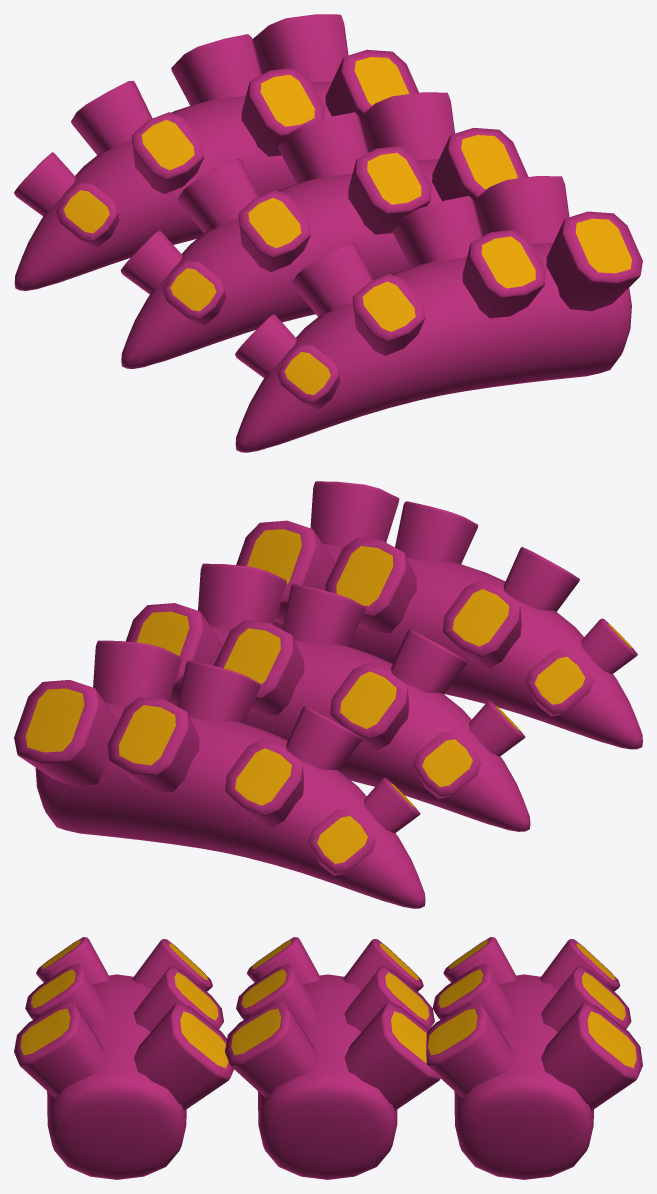
Rendered from FoodIngredient_Tentacle.glb.
The picture shows the model from 3 angles, top to bottom: view 1: azimuth 30°, elevation 25°; view 2: azimuth 150°, elevation 25°; view 3: azimuth 270°, elevation 25°; orthographic projection. The views are drawn at different scales.
Parts seen in each view (by area): view 1: FoodIngredient_Tentacle.002, FoodIngredient_Tentacle, FoodIngredient_Tentacle.001; view 2: FoodIngredient_Tentacle.001, FoodIngredient_Tentacle.002, FoodIngredient_Tentacle; view 3: FoodIngredient_Tentacle.001, FoodIngredient_Tentacle.002, FoodIngredient_Tentacle.
Part boxes in pixels (bbox=[...]): FoodIngredient_Tentacle.002: bbox=[235, 176, 642, 452]; FoodIngredient_Tentacle: bbox=[120, 92, 528, 368]; FoodIngredient_Tentacle.001: bbox=[14, 14, 418, 290]; FoodIngredient_Tentacle.001: bbox=[14, 640, 425, 908]; FoodIngredient_Tentacle.002: bbox=[236, 481, 642, 749]; FoodIngredient_Tentacle: bbox=[125, 563, 530, 831]; FoodIngredient_Tentacle.001: bbox=[426, 937, 642, 1179]; FoodIngredient_Tentacle.002: bbox=[14, 937, 233, 1179]; FoodIngredient_Tentacle: bbox=[225, 937, 441, 1179].
Bounding box in the file's own units: 0.759 × 0.3475 × 1.21.
Materials: 3 (3 with a texture image).
